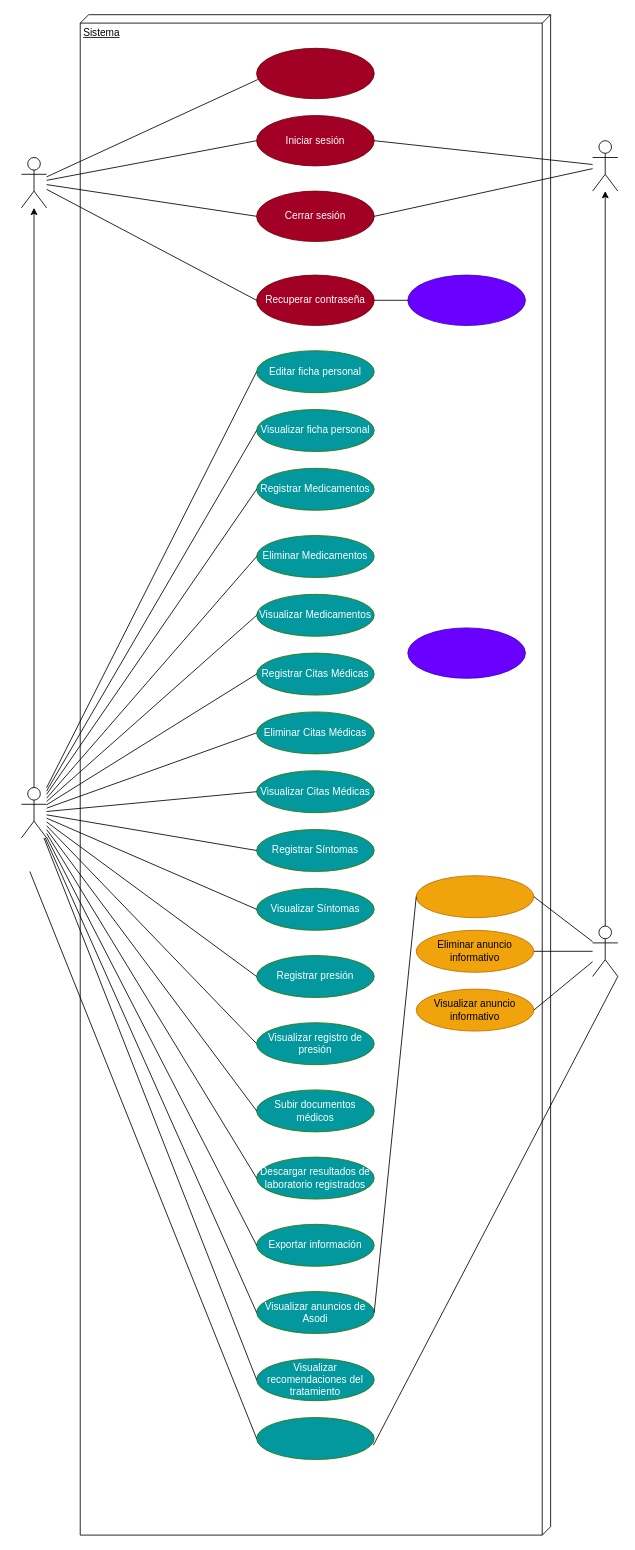
Image size: 635x1550. Some labels were removed from this diagram. The centre of each missing label's shape, as x and y in pixels:
"Acceder a contactos de ASODI" belongs at [315,1438].
"Admin" belongs at [605,165].
"ASODI" belongs at [605,950].
"Enviar correo con recuperación de contraseña" belongs at [466,300].
"Notificar recordatorio de chequeo de actividades en el sistema" belongs at [466,652].
"Paciente" belongs at [34,812].
"Programar anuncio informativo" belongs at [474,896].
"Registrar cuenta" belongs at [315,73].
"Usuario" belongs at [34,182].
